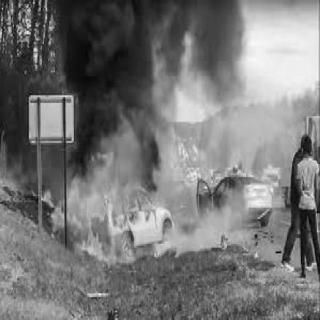Fire: (36, 150, 167, 256)
